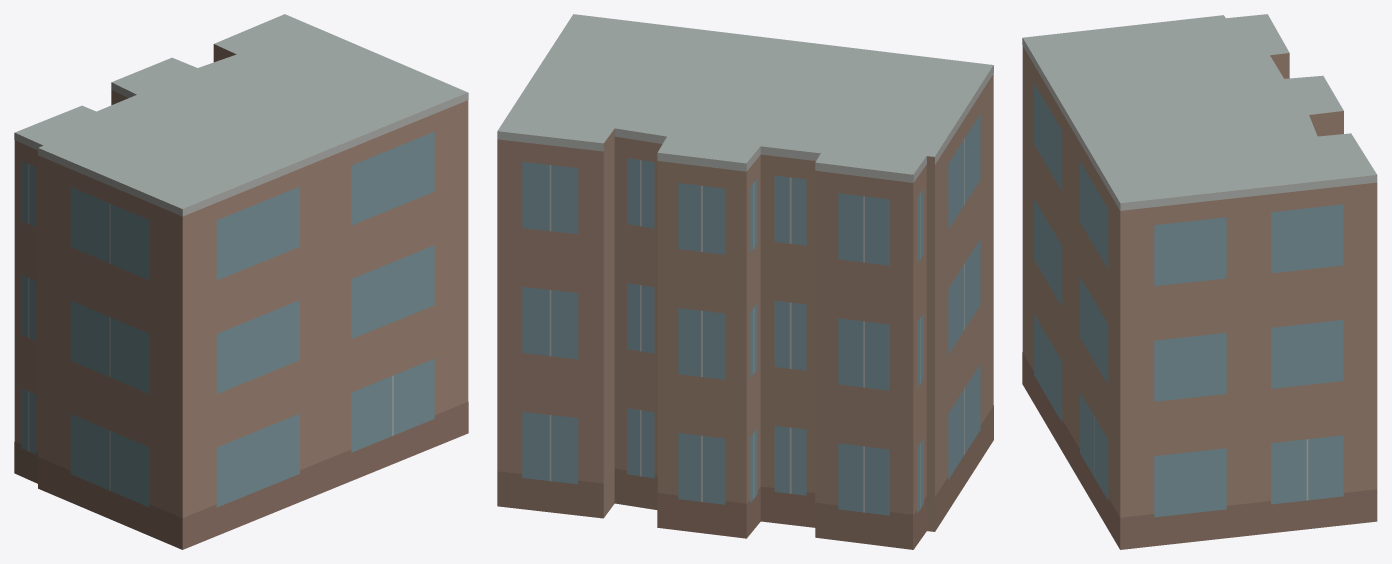
File: survey-upis-32713703.glb
3 views of the same model, side by side, from view 1: azimuth 30°, elevation 25°; view 2: azimuth 150°, elevation 25°; view 3: azimuth 270°, elevation 25° (orthographic). The views are drawn at different scales.
Visible parts, largest first — view 1: survey-upis-32713703.tmp; view 2: survey-upis-32713703.tmp; view 3: survey-upis-32713703.tmp.
Part boxes in pixels (x1,y1,x2,y2): survey-upis-32713703.tmp: (14,14,468,549); survey-upis-32713703.tmp: (497,14,993,549); survey-upis-32713703.tmp: (1022,14,1377,549).
Bounding box in the file's own units: 13.13 × 11.2 × 10.4.
